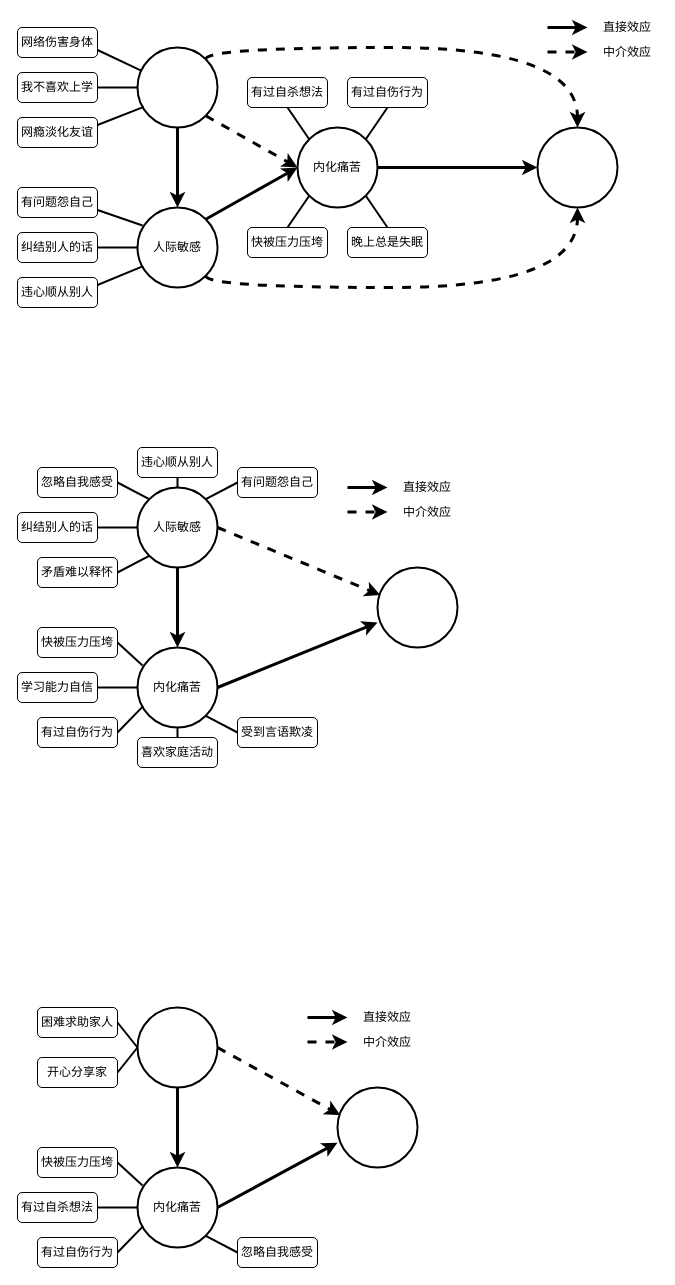
Some shapes in this 675 by 1285 pixel diagram are drawn without their labels. Each missing label, with the centre of its shape:
家庭支持: the point at 177,1047
抑郁: the point at 417,607
焦虑: the point at 577,167
现实疏离: the point at 177,87
自伤风险: the point at 377,1127
